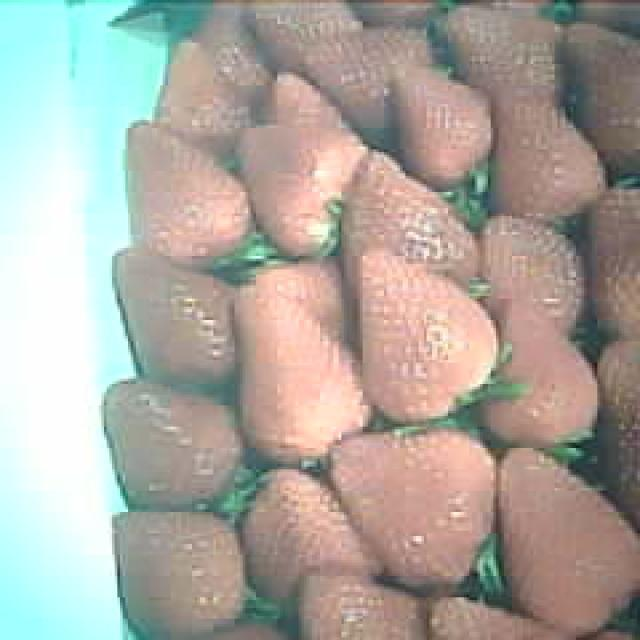strawberry: (496, 437, 640, 627), (336, 427, 494, 592), (357, 251, 499, 423), (230, 293, 372, 460)
